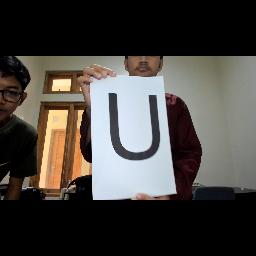u: (102, 86, 166, 166)
